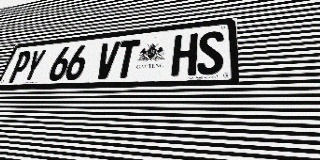6: (63, 44, 91, 81), (47, 46, 74, 81)
H: (171, 33, 198, 76)
P: (6, 50, 33, 83)
S: (197, 30, 224, 75)
T: (113, 39, 140, 79)
V: (93, 41, 121, 79)
Y: (20, 49, 47, 82)
